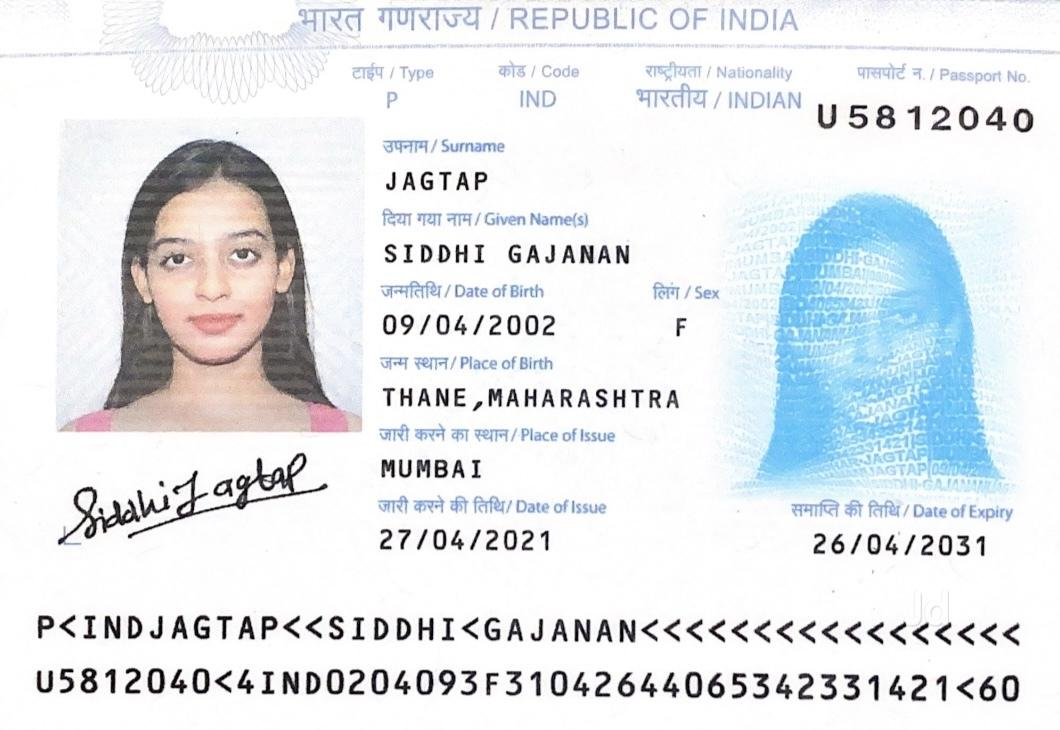DOB: (374, 297, 559, 351)
Surname: (376, 160, 506, 202)
country_code: (507, 83, 584, 117)
date_of_expiry: (799, 521, 998, 568)
date_of_issue: (373, 517, 567, 566)
details: (17, 587, 1035, 709)
name: (372, 234, 638, 274)
nationality: (627, 77, 806, 129)
passport_no: (812, 84, 1048, 158)
photo: (58, 122, 364, 434)
place_of_birth: (368, 370, 692, 420)
place_of_issue: (371, 449, 497, 488)
sex: (657, 307, 716, 346)
sign: (43, 446, 344, 564)
type: (373, 81, 411, 116)
